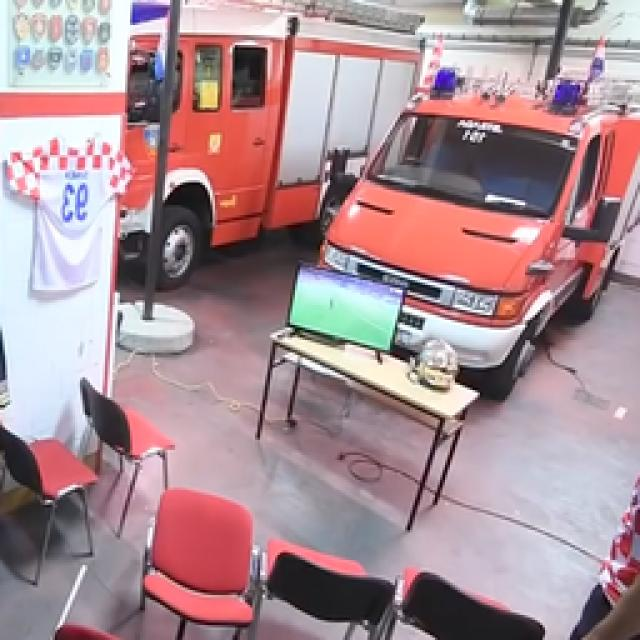person: (570, 478, 639, 639), (583, 580, 639, 639)
